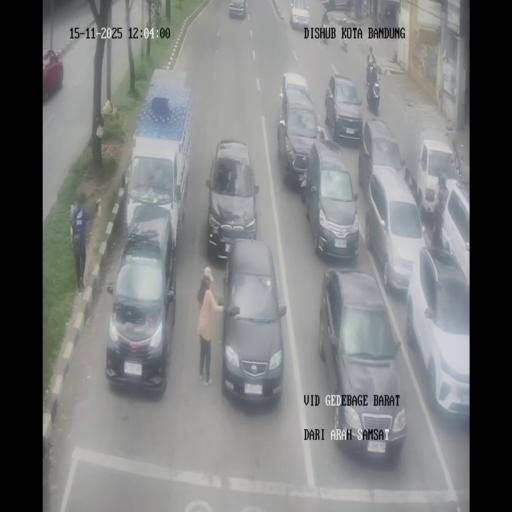3: (126, 71, 194, 249), (401, 114, 458, 217)
car: (321, 268, 405, 460), (106, 208, 178, 393), (406, 245, 469, 424), (220, 240, 286, 408), (366, 165, 424, 294), (205, 139, 260, 262), (305, 138, 359, 263), (276, 73, 320, 186), (324, 73, 364, 144), (42, 48, 63, 100), (289, 0, 310, 30), (228, 0, 246, 19)
truck: (448, 139, 470, 202), (366, 60, 380, 113), (321, 7, 329, 28), (378, 9, 384, 24)
